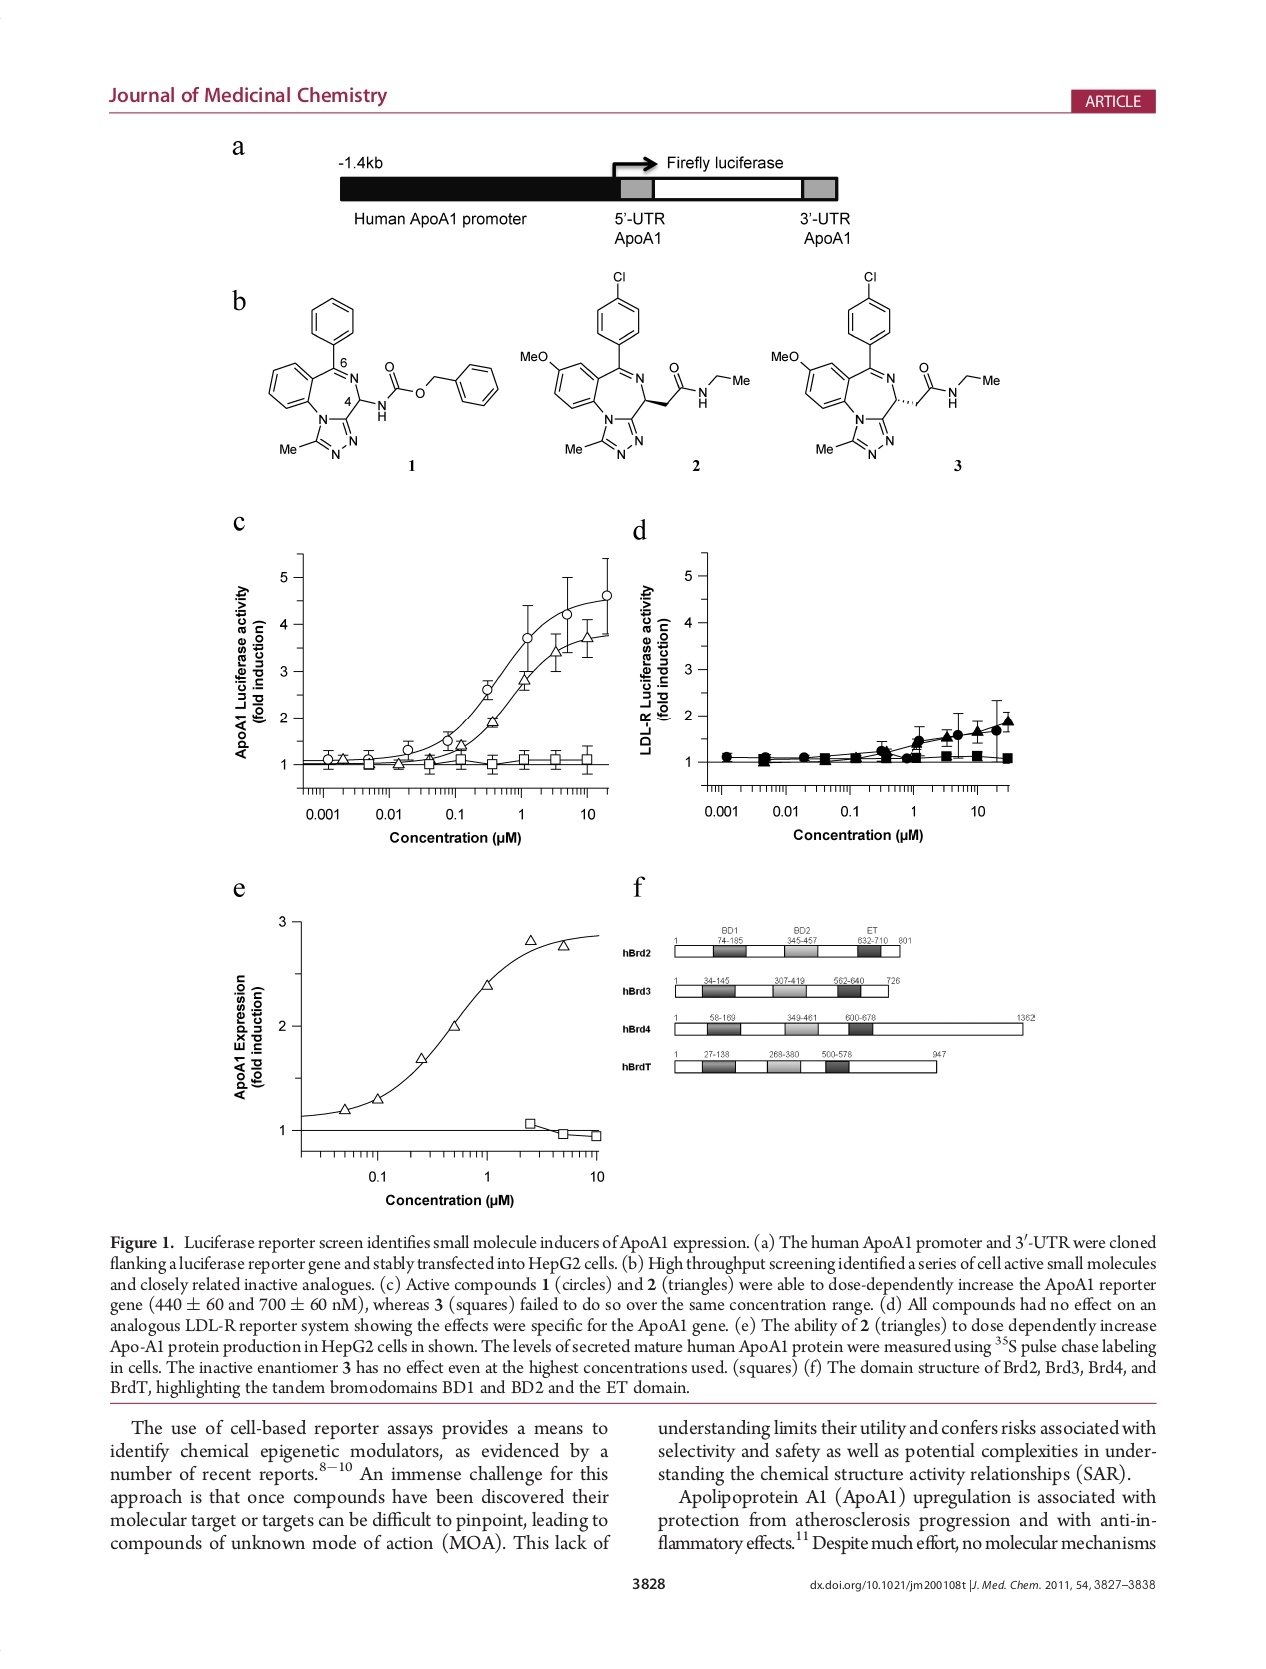exist_molecular: (516, 269, 751, 461), (769, 270, 1004, 460), (265, 293, 501, 461)
